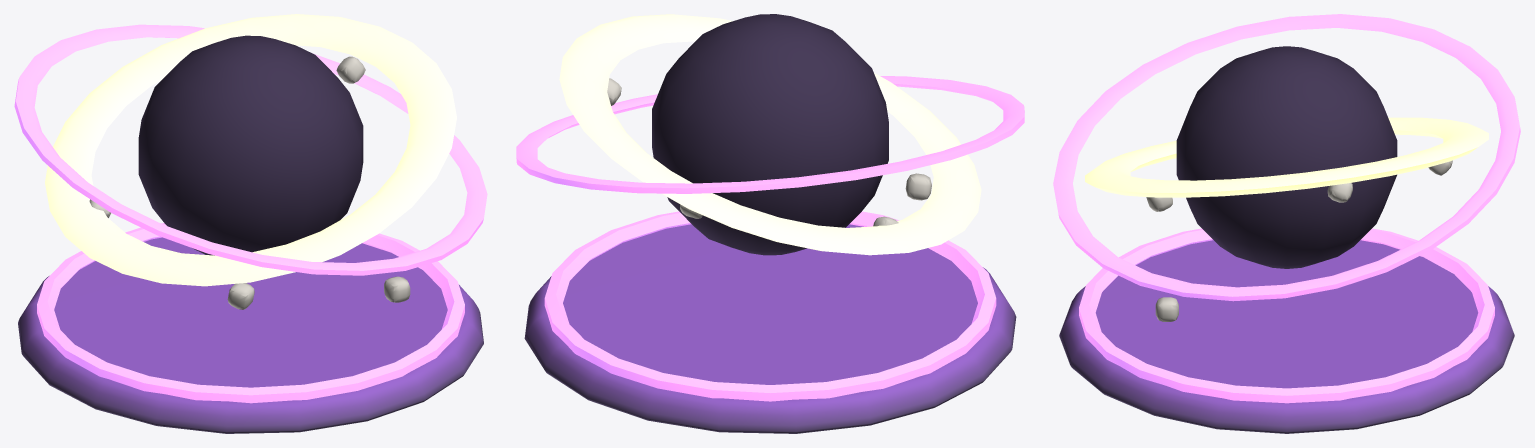
The model's file is blackHole.glb.
3 views of the same model, side by side, from view 1: azimuth 30°, elevation 25°; view 2: azimuth 150°, elevation 25°; view 3: azimuth 270°, elevation 25° (orthographic). The views are drawn at different scales.
Visible parts, largest first — view 1: Body, Glow_FFB347, Glow_7B2FF7; view 2: Body, Glow_FFB347, Glow_7B2FF7; view 3: Body, Glow_7B2FF7, Glow_FFB347.
Part boxes in pixels (x1=…): Body: x1=18, y1=35, x2=483, y2=433; Glow_FFB347: x1=45, y1=14, x2=456, y2=286; Glow_7B2FF7: x1=14, y1=24, x2=487, y2=403; Body: x1=524, y1=14, x2=1016, y2=433; Glow_FFB347: x1=559, y1=14, x2=981, y2=255; Glow_7B2FF7: x1=516, y1=76, x2=1024, y2=401; Body: x1=1059, y1=46, x2=1514, y2=433; Glow_7B2FF7: x1=1053, y1=14, x2=1520, y2=403; Glow_FFB347: x1=1085, y1=117, x2=1488, y2=197.
Size of the model in its own units: 6.03 by 4.05 by 6.06.
